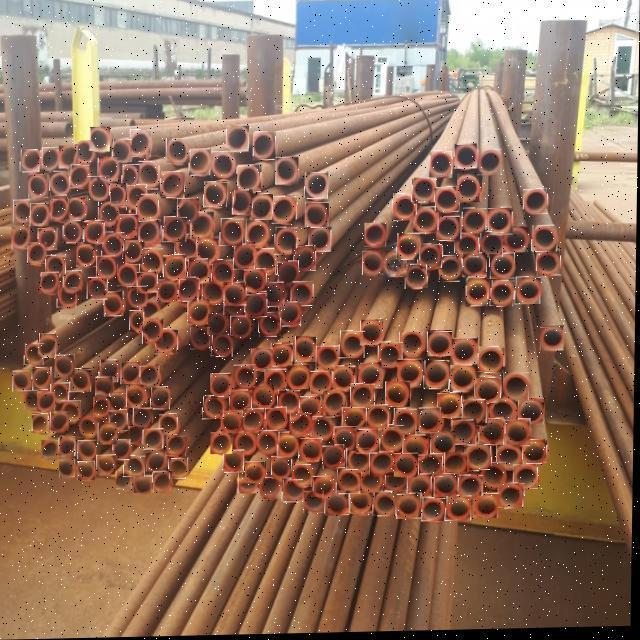pipe: (466, 446, 494, 474), (498, 484, 526, 511), (504, 376, 531, 403), (516, 279, 542, 307), (425, 363, 451, 391), (506, 421, 532, 449), (490, 282, 516, 309), (475, 380, 502, 406), (479, 349, 506, 375), (452, 340, 478, 367), (451, 367, 477, 394), (480, 420, 506, 447), (340, 333, 366, 360), (393, 195, 418, 223), (498, 446, 523, 474), (273, 197, 298, 225), (466, 280, 490, 309), (399, 361, 423, 390), (238, 165, 262, 194), (519, 401, 545, 427), (447, 497, 473, 523), (524, 190, 549, 217), (463, 402, 488, 429), (161, 172, 186, 199), (458, 177, 482, 205), (394, 410, 418, 438), (253, 133, 276, 162), (137, 162, 160, 191), (537, 253, 562, 279), (533, 229, 558, 255), (491, 255, 516, 281), (418, 246, 444, 271), (435, 188, 460, 214), (490, 402, 516, 427), (482, 465, 507, 491), (438, 394, 463, 420), (452, 422, 478, 447), (386, 383, 411, 409), (404, 437, 430, 462), (398, 495, 423, 521), (489, 210, 513, 237), (397, 235, 421, 262), (415, 209, 439, 236), (360, 364, 384, 391), (381, 427, 405, 454), (253, 249, 277, 276), (275, 228, 298, 256), (221, 219, 244, 247), (191, 212, 214, 240), (463, 255, 488, 280), (412, 180, 437, 205), (524, 442, 549, 467), (428, 333, 453, 358), (305, 203, 330, 228), (505, 229, 529, 255), (439, 258, 463, 284), (478, 152, 502, 178), (380, 343, 404, 369), (370, 453, 396, 477), (305, 174, 329, 200), (250, 195, 274, 221), (430, 153, 453, 180), (276, 158, 299, 185), (137, 195, 160, 222), (129, 130, 151, 158), (456, 235, 480, 260), (463, 211, 487, 236), (405, 266, 429, 291), (515, 467, 539, 492), (476, 495, 500, 520), (432, 434, 457, 458), (352, 386, 376, 411), (420, 456, 445, 480), (357, 431, 381, 456), (204, 183, 228, 208), (140, 249, 164, 274), (334, 367, 357, 393), (294, 247, 317, 273), (226, 127, 249, 153), (246, 222, 269, 248), (166, 139, 189, 165), (176, 235, 198, 262), (126, 184, 148, 211), (541, 329, 565, 353), (438, 219, 462, 243), (401, 334, 425, 358), (445, 455, 469, 479), (460, 477, 484, 501), (423, 499, 447, 523), (409, 476, 433, 500), (327, 493, 351, 517), (481, 235, 504, 260), (455, 146, 478, 171), (367, 406, 390, 431), (265, 370, 288, 395), (338, 471, 361, 496), (311, 418, 336, 441), (279, 303, 302, 328), (245, 269, 268, 294), (164, 218, 187, 243), (156, 330, 179, 355), (385, 253, 407, 279), (420, 409, 442, 435), (279, 433, 301, 459), (236, 431, 258, 457), (278, 262, 300, 288), (292, 282, 314, 308), (234, 245, 256, 271), (189, 150, 211, 176), (165, 255, 187, 281), (140, 220, 162, 246), (213, 152, 234, 179), (361, 322, 384, 346), (375, 494, 398, 518), (271, 344, 294, 368), (348, 450, 371, 474), (324, 446, 347, 470), (225, 283, 248, 307), (336, 428, 358, 453), (310, 229, 332, 254), (260, 313, 282, 338), (246, 294, 268, 319), (212, 261, 234, 286), (179, 278, 201, 303), (88, 176, 110, 201), (103, 233, 125, 258), (296, 338, 317, 364), (197, 239, 218, 265), (317, 347, 340, 370), (396, 455, 419, 478), (343, 409, 366, 432), (365, 225, 387, 249), (235, 365, 257, 389), (289, 367, 311, 391), (291, 415, 313, 439), (279, 391, 301, 415), (203, 396, 225, 420), (264, 284, 286, 308), (363, 252, 384, 277), (233, 191, 254, 216), (178, 199, 199, 224), (143, 319, 164, 344), (435, 476, 458, 498), (351, 493, 374, 515), (362, 471, 384, 494), (311, 372, 333, 395), (300, 398, 322, 421), (325, 393, 347, 416), (302, 440, 324, 463), (231, 391, 253, 414), (116, 215, 138, 238), (71, 369, 93, 392), (267, 408, 288, 432), (189, 261, 210, 285), (203, 282, 224, 306), (188, 301, 209, 325), (98, 158, 119, 182), (50, 172, 71, 196), (99, 202, 120, 226), (212, 374, 232, 399), (67, 197, 87, 222), (77, 243, 97, 268), (252, 350, 274, 372), (291, 467, 313, 489), (212, 433, 234, 455), (222, 412, 244, 434), (212, 336, 234, 358), (125, 456, 147, 478), (88, 277, 109, 300), (63, 221, 84, 244), (273, 456, 293, 480), (259, 432, 279, 456), (75, 141, 95, 165), (70, 165, 90, 189), (29, 174, 49, 198), (105, 292, 124, 317), (387, 472, 409, 493), (284, 481, 305, 503), (261, 478, 283, 499), (225, 452, 246, 474), (138, 272, 159, 294), (245, 410, 265, 433), (112, 140, 132, 163), (85, 221, 105, 244), (56, 355, 76, 378), (12, 225, 30, 250), (314, 477, 335, 498), (231, 317, 252, 338), (127, 287, 148, 308), (46, 256, 67, 277), (240, 473, 260, 495), (255, 387, 275, 409), (209, 314, 229, 336), (191, 329, 211, 351), (118, 265, 138, 287), (20, 150, 40, 172), (38, 228, 58, 250), (151, 388, 171, 410), (141, 366, 161, 388), (100, 361, 120, 383), (25, 343, 45, 365), (33, 368, 53, 390), (158, 280, 177, 303), (64, 271, 83, 294), (31, 203, 50, 226), (122, 362, 141, 385), (63, 401, 82, 424), (110, 184, 128, 208), (91, 128, 109, 152), (39, 334, 57, 358), (247, 463, 267, 484), (144, 430, 165, 450), (306, 493, 325, 515), (97, 257, 116, 279), (28, 242, 47, 264), (99, 423, 118, 445), (80, 417, 99, 439), (126, 241, 144, 264), (14, 199, 31, 223), (58, 288, 78, 308), (168, 437, 188, 457), (148, 452, 168, 472), (154, 472, 173, 493), (170, 459, 189, 480), (110, 411, 129, 432), (52, 383, 71, 404), (60, 146, 78, 168), (52, 199, 70, 221), (161, 414, 179, 436), (128, 386, 146, 408), (51, 412, 70, 432), (79, 440, 98, 460), (122, 165, 140, 186), (94, 398, 112, 419), (114, 440, 132, 461), (42, 148, 59, 170), (14, 370, 31, 392), (42, 273, 60, 293), (97, 456, 117, 474), (141, 302, 159, 321), (96, 377, 114, 396), (134, 409, 153, 427), (38, 393, 56, 412), (33, 413, 50, 433), (79, 461, 96, 481), (43, 440, 61, 458), (61, 437, 77, 457), (110, 394, 127, 412), (135, 476, 153, 493), (131, 311, 145, 332), (117, 472, 133, 490), (61, 460, 77, 478), (225, 303, 245, 316), (130, 427, 144, 445), (26, 390, 39, 409)
